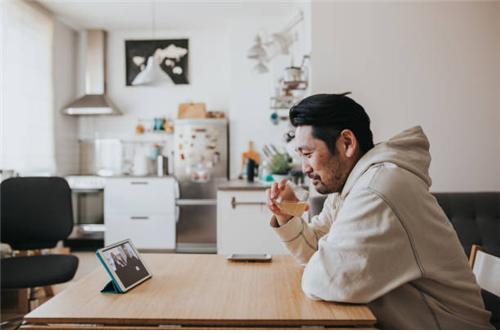alcohol: (272, 164, 315, 219)
